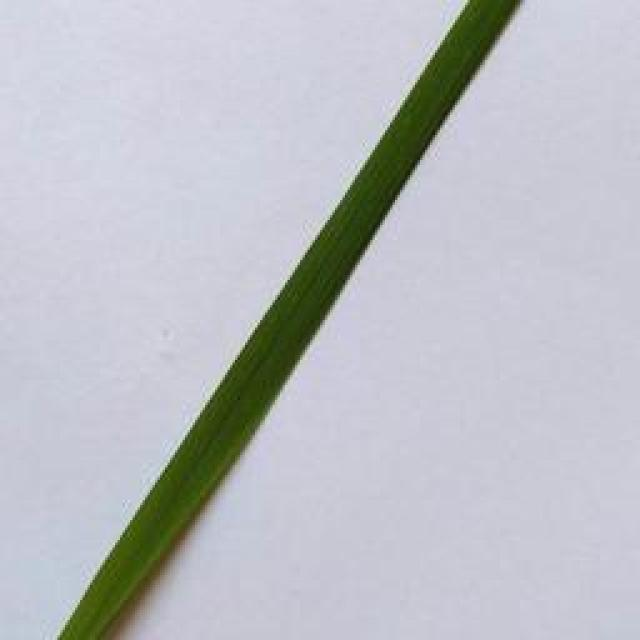Healthy-Plant: (59, 0, 523, 640)
